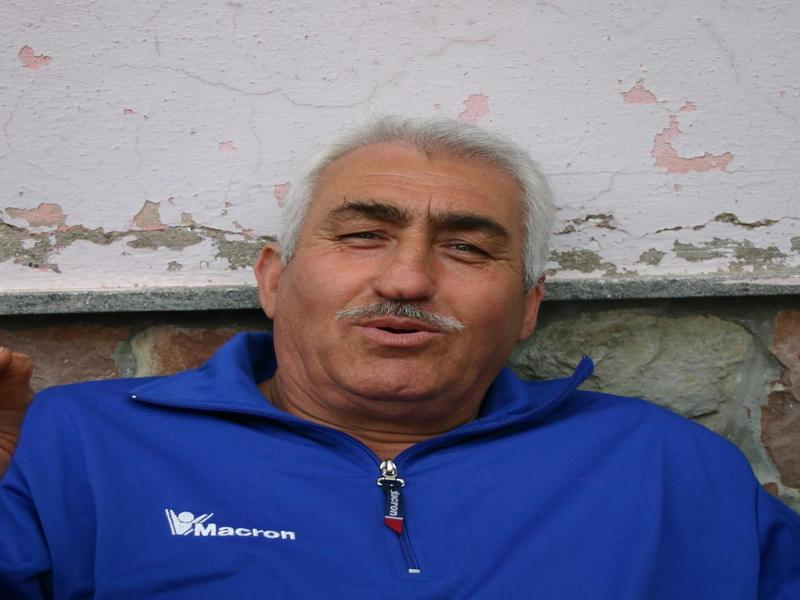person: (29, 114, 799, 599)
